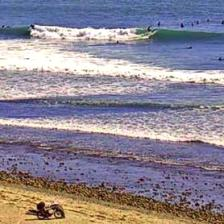surfer: (115, 41, 125, 45), (217, 57, 223, 63), (30, 24, 36, 30), (184, 46, 192, 49), (5, 25, 12, 28), (147, 27, 151, 32), (180, 23, 184, 27), (221, 20, 223, 27), (1, 25, 4, 28), (197, 20, 199, 24), (192, 23, 194, 27), (158, 21, 160, 25), (206, 19, 208, 21)
